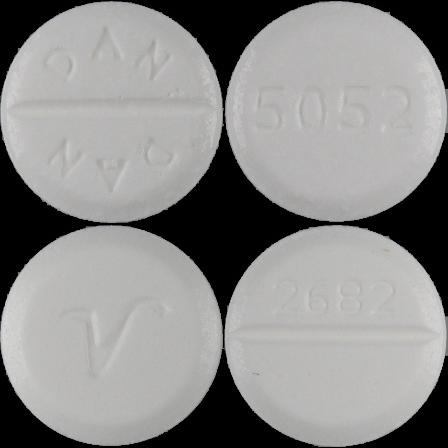43353-819: (0, 0, 224, 224)
